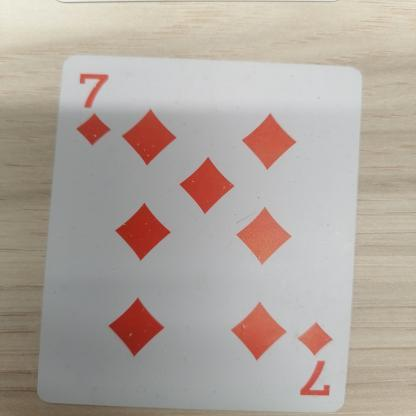7D: (60, 57, 126, 163), (290, 304, 336, 404)
